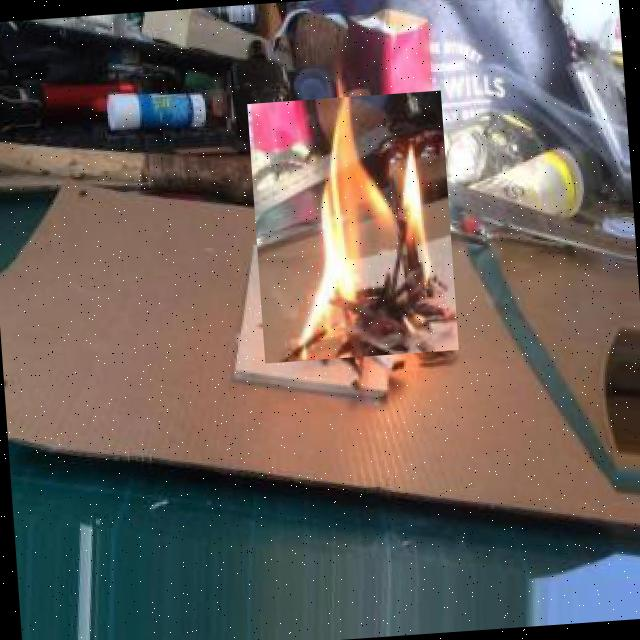fire: (246, 90, 458, 363)
